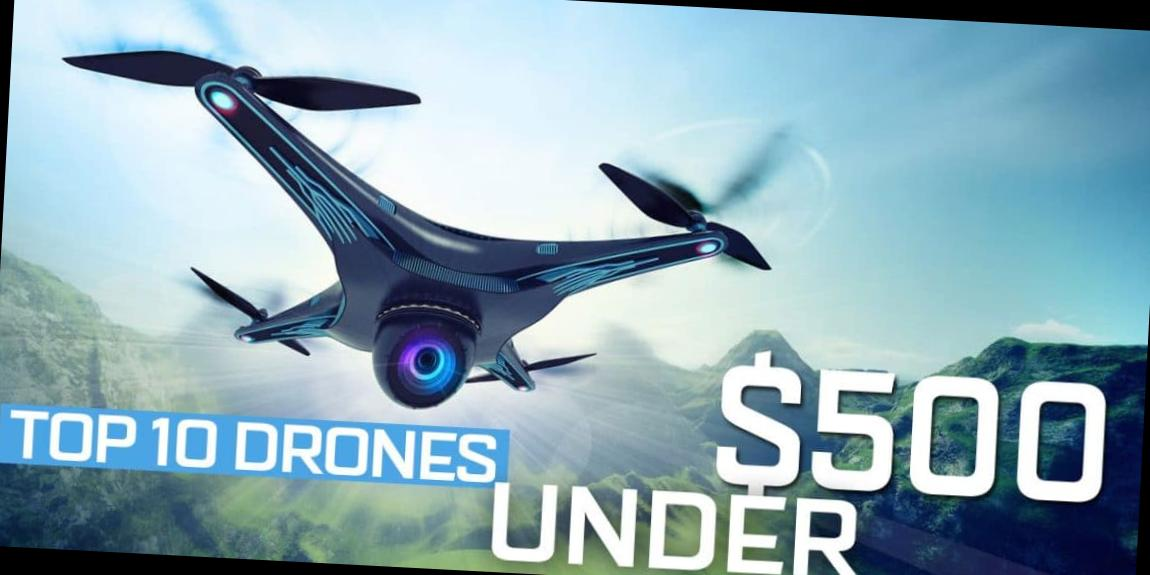drone: (81, 19, 805, 444)
